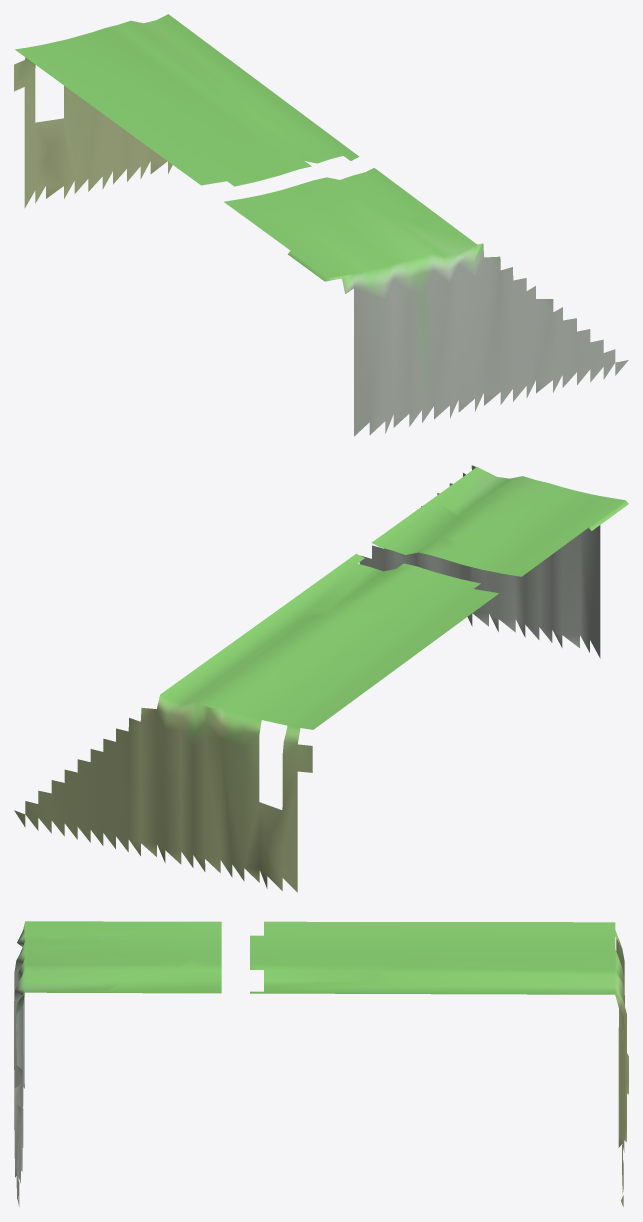
Rendered from tile_7e4ccbd5fe0e_0_-1_1_0_lod2.glb.
3 renders of one model, top to bottom at view 1: azimuth 30°, elevation 25°; view 2: azimuth 150°, elevation 25°; view 3: azimuth 270°, elevation 25°, orthographic. The views are drawn at different scales.
Bounding box in the file's own units: 1.86 × 0.9775 × 3.5.
